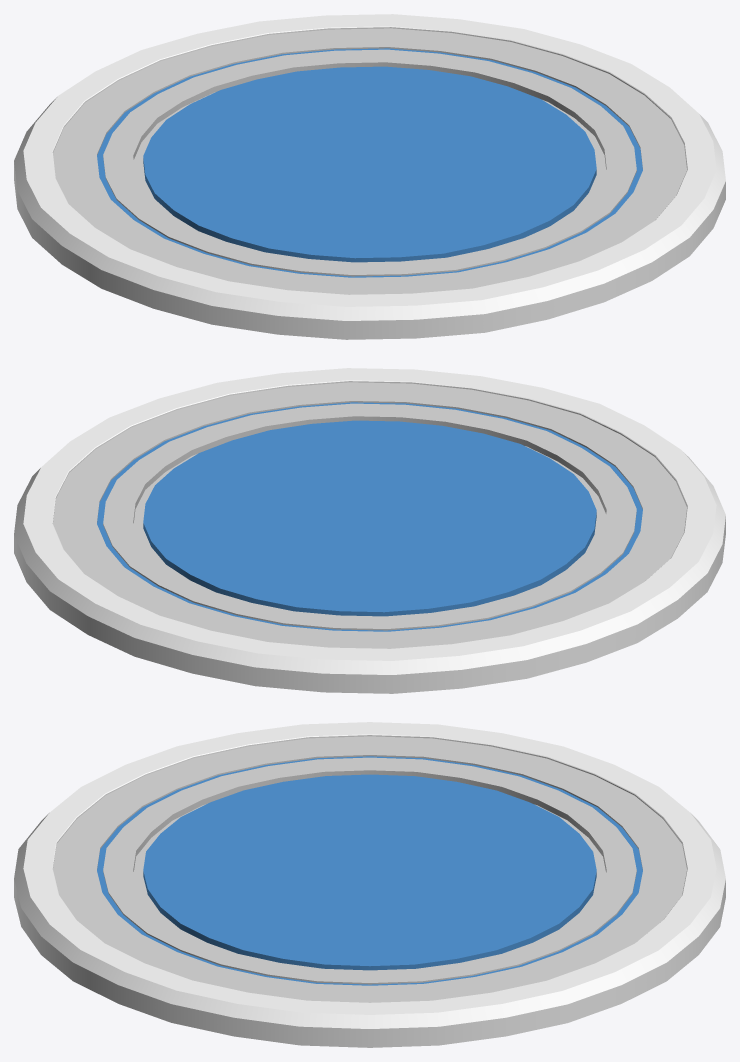
The model's file is W_O_Playground_CubeSymbolic_dock_ L0.fbx.
3 renders of one model, top to bottom at view 1: azimuth 30°, elevation 25°; view 2: azimuth 150°, elevation 25°; view 3: azimuth 270°, elevation 25°, orthographic.
Parts seen in each view (by area): view 1: W_O_Playground_CubeSymbolic_dock_ L0; view 2: W_O_Playground_CubeSymbolic_dock_ L0; view 3: W_O_Playground_CubeSymbolic_dock_ L0.
Boxes of the visible parts, left/top/right/bottom form: W_O_Playground_CubeSymbolic_dock_ L0: left=14, top=14, right=725, bottom=339; W_O_Playground_CubeSymbolic_dock_ L0: left=14, top=368, right=725, bottom=693; W_O_Playground_CubeSymbolic_dock_ L0: left=14, top=722, right=725, bottom=1047.
Size of the model in its own units: 1.09 by 0.0489 by 1.09.
